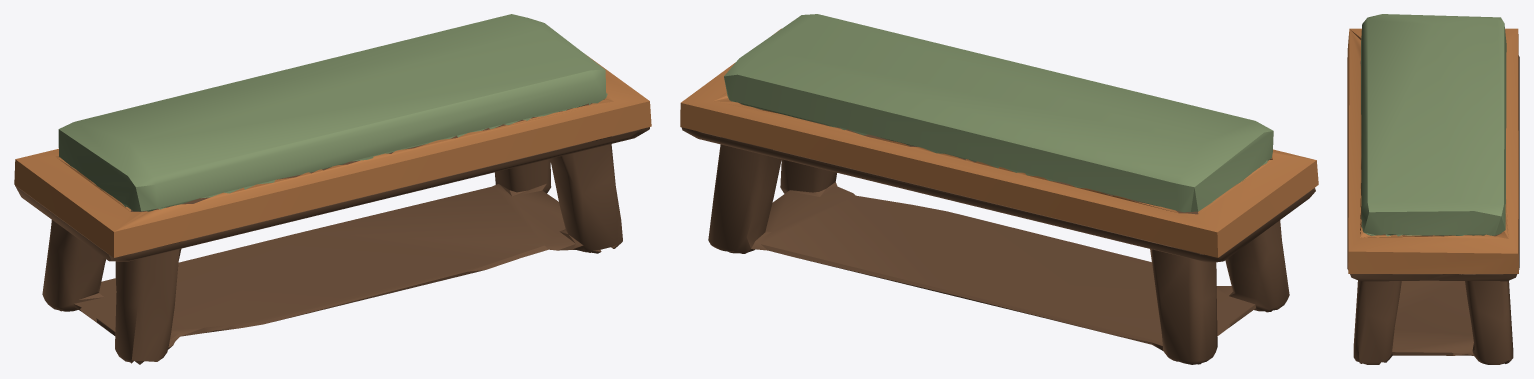
The model's file is bench.glb.
3 renders of one model, left to right at view 1: azimuth 30°, elevation 25°; view 2: azimuth 150°, elevation 25°; view 3: azimuth 270°, elevation 25°, orthographic. The views are drawn at different scales.
Visible parts, largest first — view 1: bench_dark, bench_pad, bench_wood; view 2: bench_dark, bench_pad, bench_wood; view 3: bench_pad, bench_dark, bench_wood.
Boxes of the visible parts, x1,y1,x2,y2 form: bench_dark: (15,99,649,364); bench_pad: (58,14,607,211); bench_wood: (14,56,651,257); bench_dark: (681,101,1315,364); bench_pad: (724,14,1273,212); bench_wood: (680,28,1318,257); bench_pad: (1361,14,1506,236); bench_dark: (1347,55,1519,364); bench_wood: (1347,28,1518,273).
Size of the model in its own units: 1.85 by 0.5903 by 0.6004.
